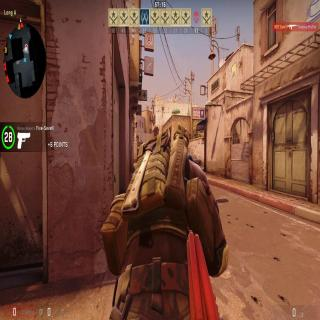T-Body: (136, 133, 138, 144), (140, 139, 143, 145)
T-Head: (136, 134, 138, 136), (141, 140, 142, 142)
